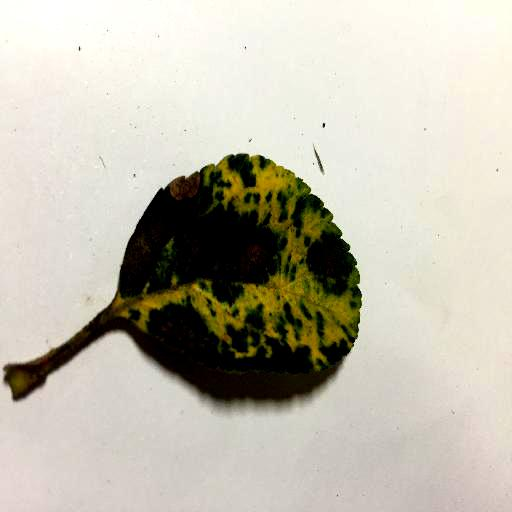Brown_Spot: (104, 157, 282, 414), (310, 226, 373, 302)
